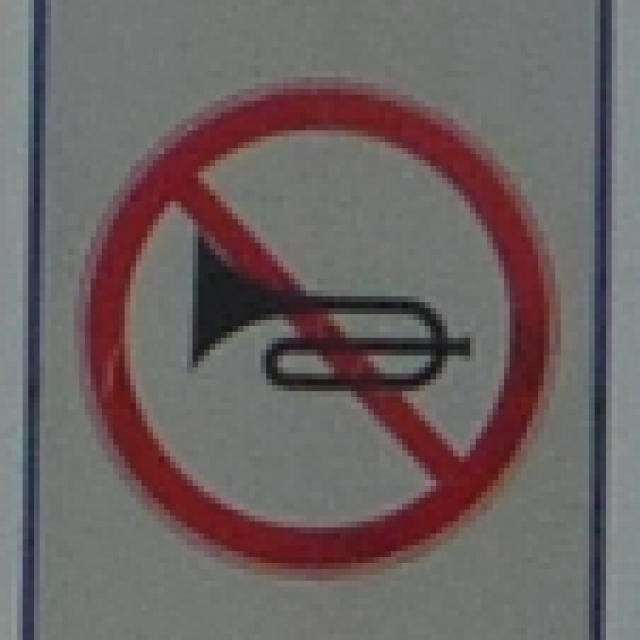No Horn: (76, 85, 557, 587)
